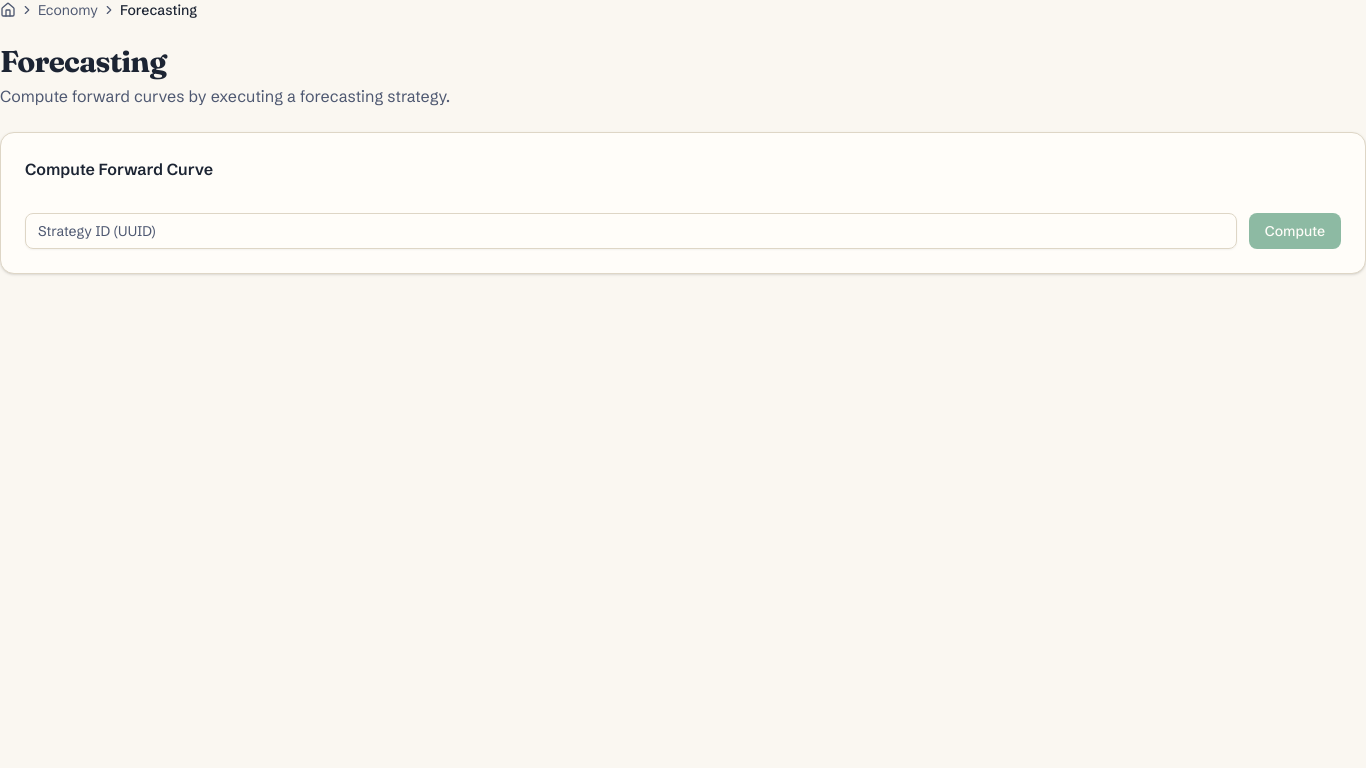
Test case: ForecastingPage › displays computation details after successful run
Step 1. Type "550e8400-e29b-41d4-a716-446655440000" into the field labelled "Strategy ID (UUID)" → (631, 231), box [25,213,1237,249]
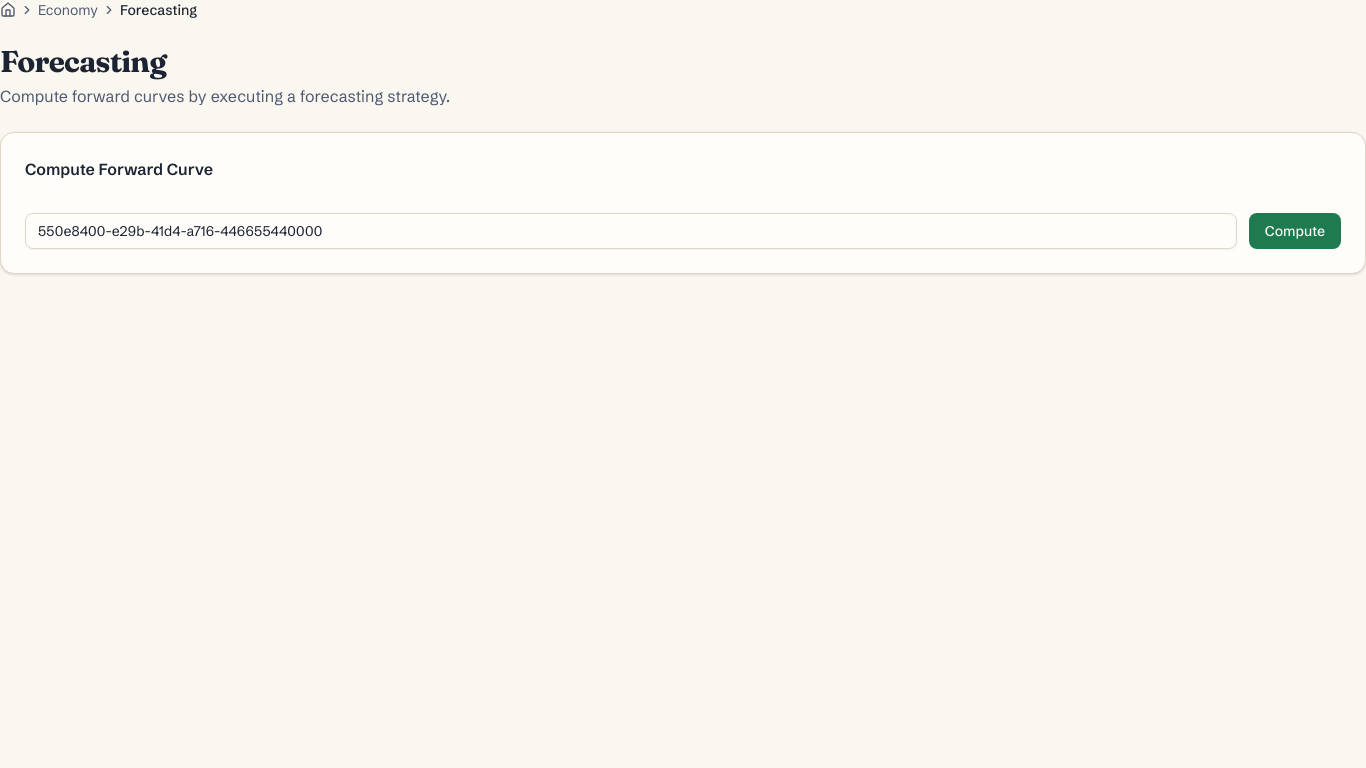
Step 2. Submit the form named "forward curve form", box [25,213,1341,249]
(page scrolled)
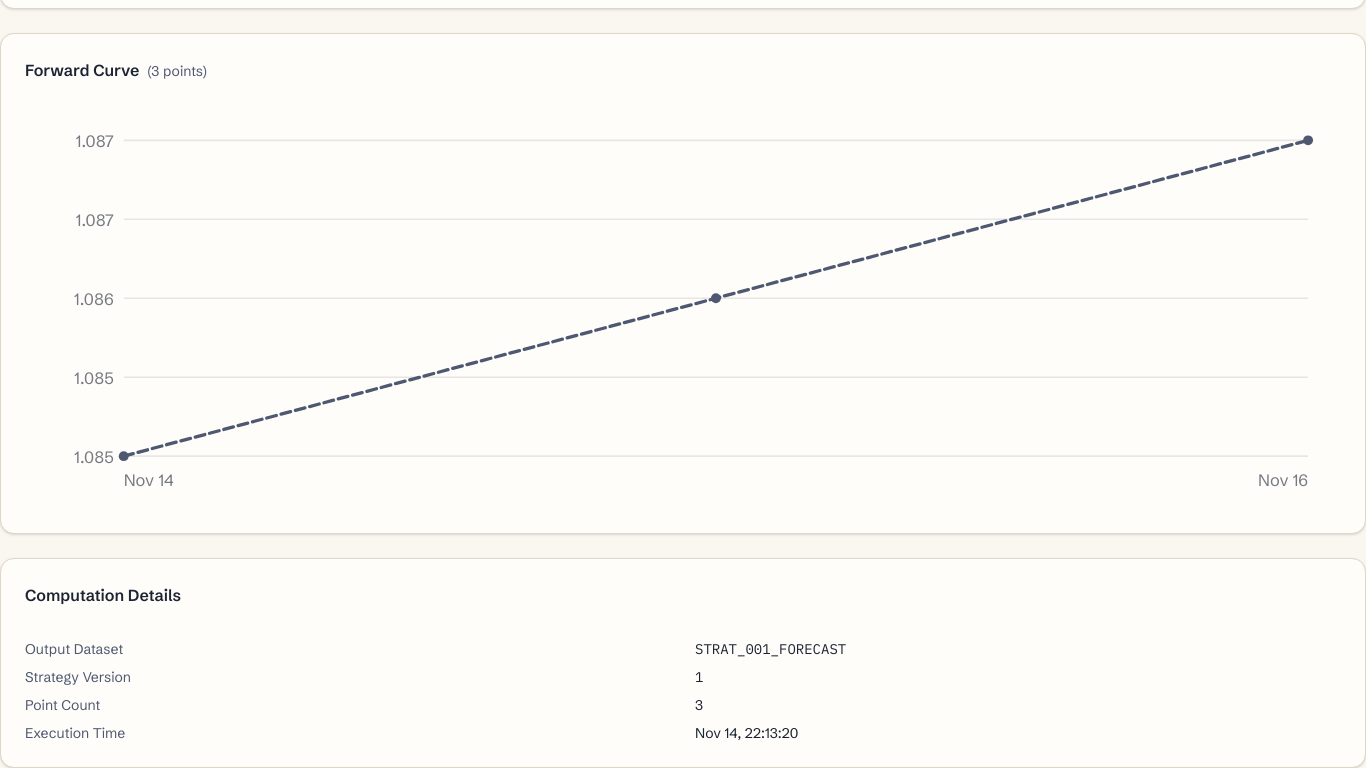
Check: the text "STRAT_001_FORECAST" is shown, box [695,640,846,658]
Check: the text "3" is shown, box [695,696,703,714]
